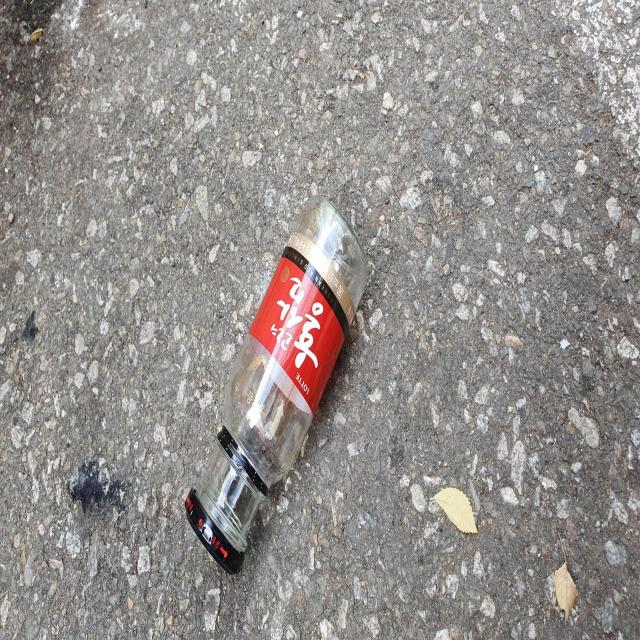glass: (186, 196, 367, 573)
